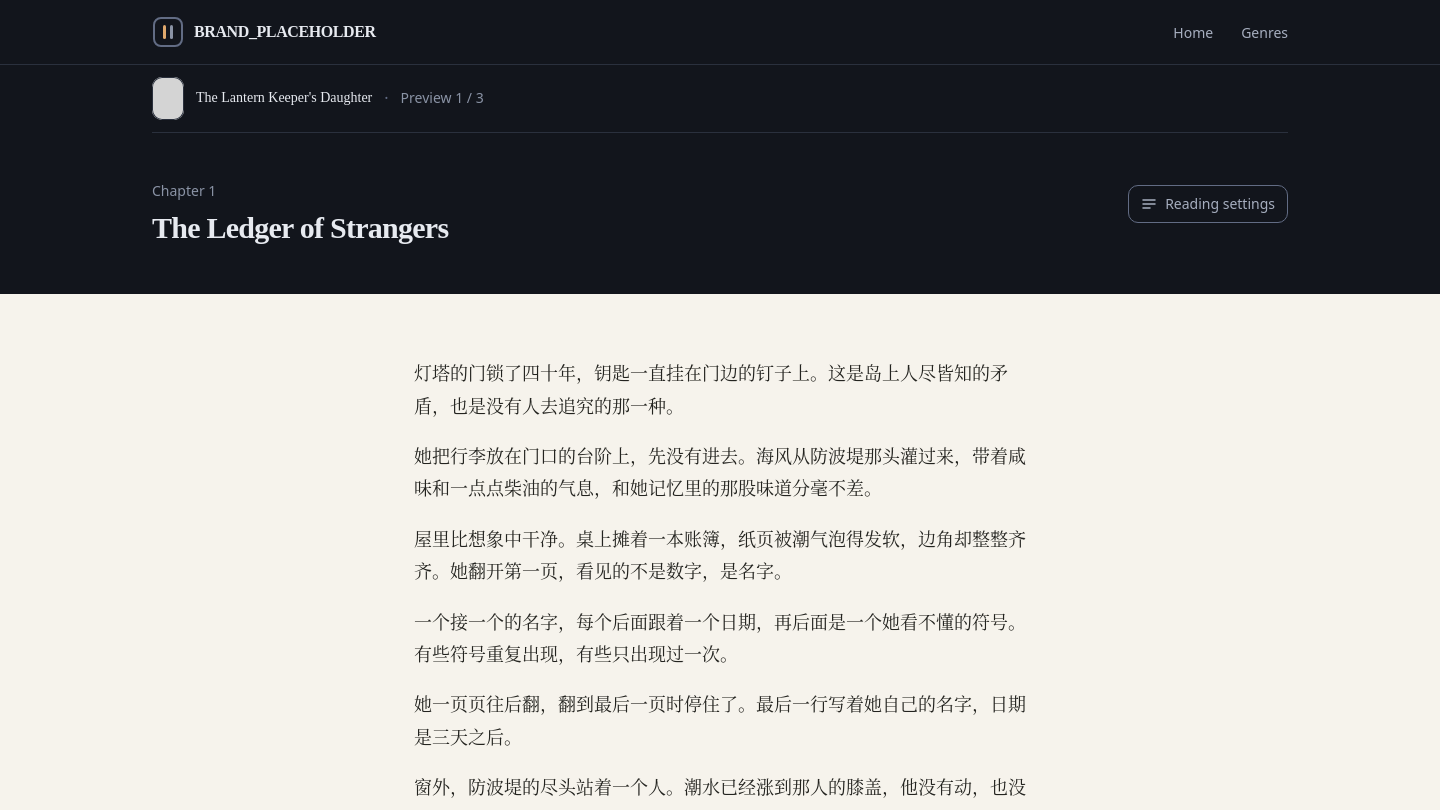
Test: 键盘可达 › 阅读设置入口声明了展开状态与弹层类型
Click the button with test id "reader-settings-toggle".
click(1208, 204)  # box top-left (1128, 185), bottom-right (1288, 223)
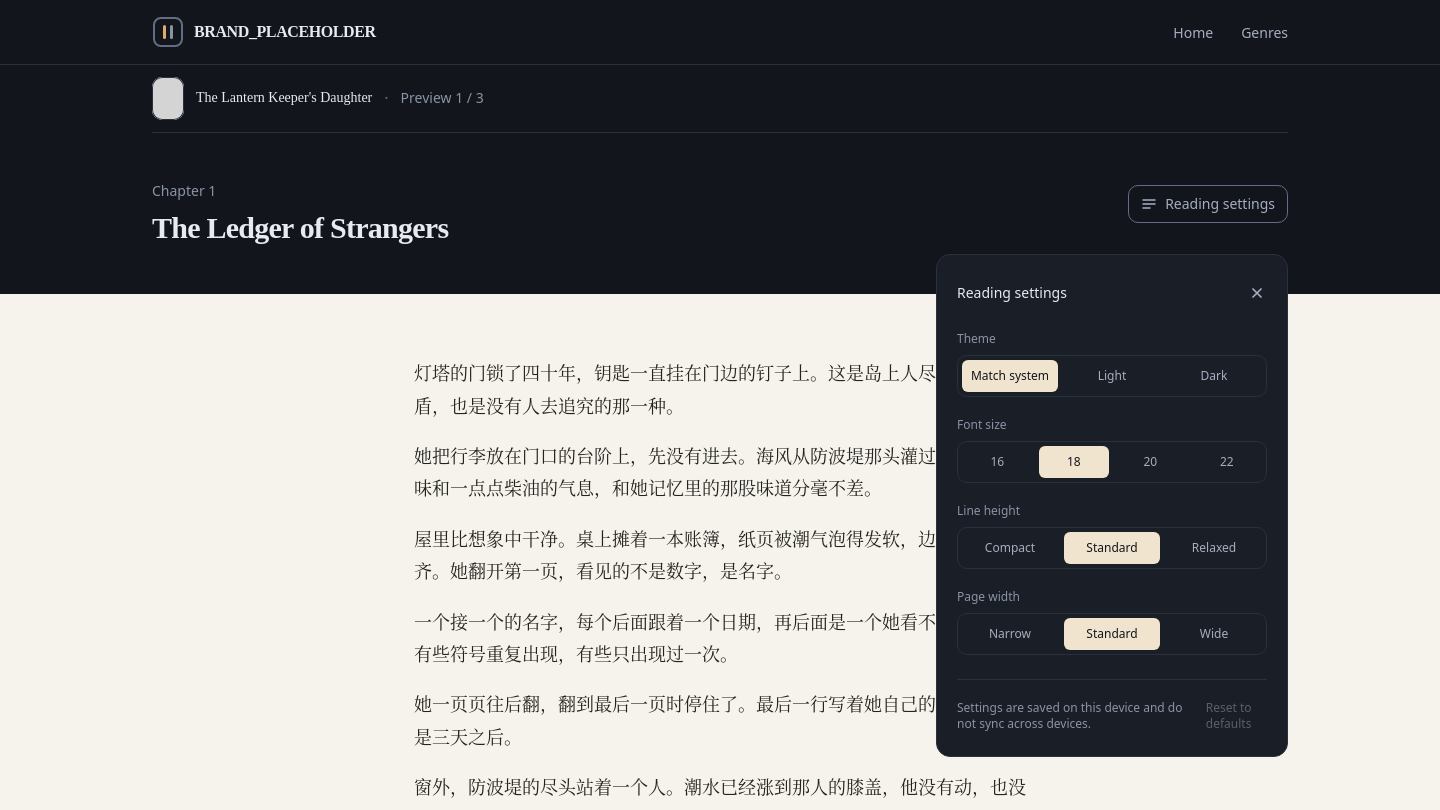
Now the dialog is shown, box top-left (936, 254), bottom-right (1288, 757)
